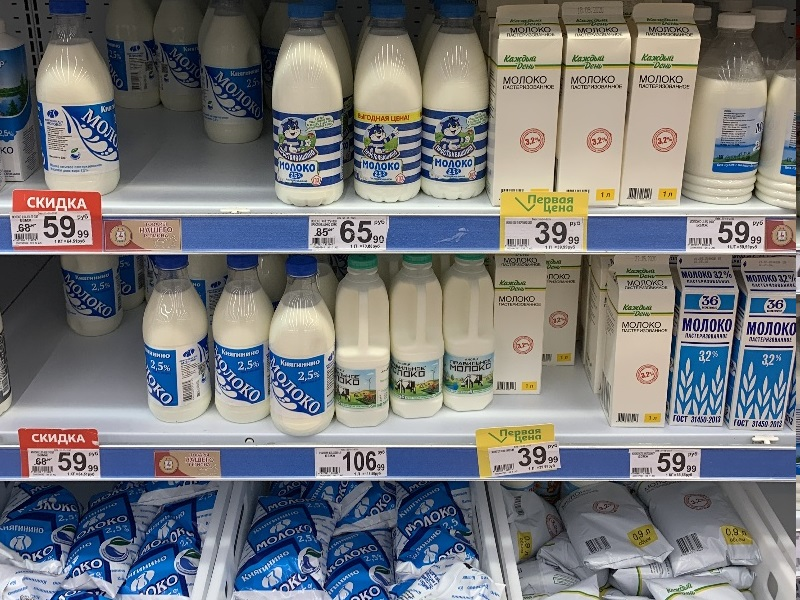milk: (19, 1, 142, 198), (260, 1, 355, 213), (677, 12, 776, 211), (616, 1, 710, 209), (409, 3, 500, 207), (342, 1, 430, 211), (126, 250, 220, 434), (550, 1, 636, 200), (660, 251, 753, 434), (485, 2, 566, 206), (261, 257, 345, 441), (603, 255, 686, 435), (726, 258, 800, 435), (206, 248, 276, 430), (328, 253, 398, 434), (187, 1, 269, 148), (386, 251, 452, 426), (442, 253, 505, 416)
